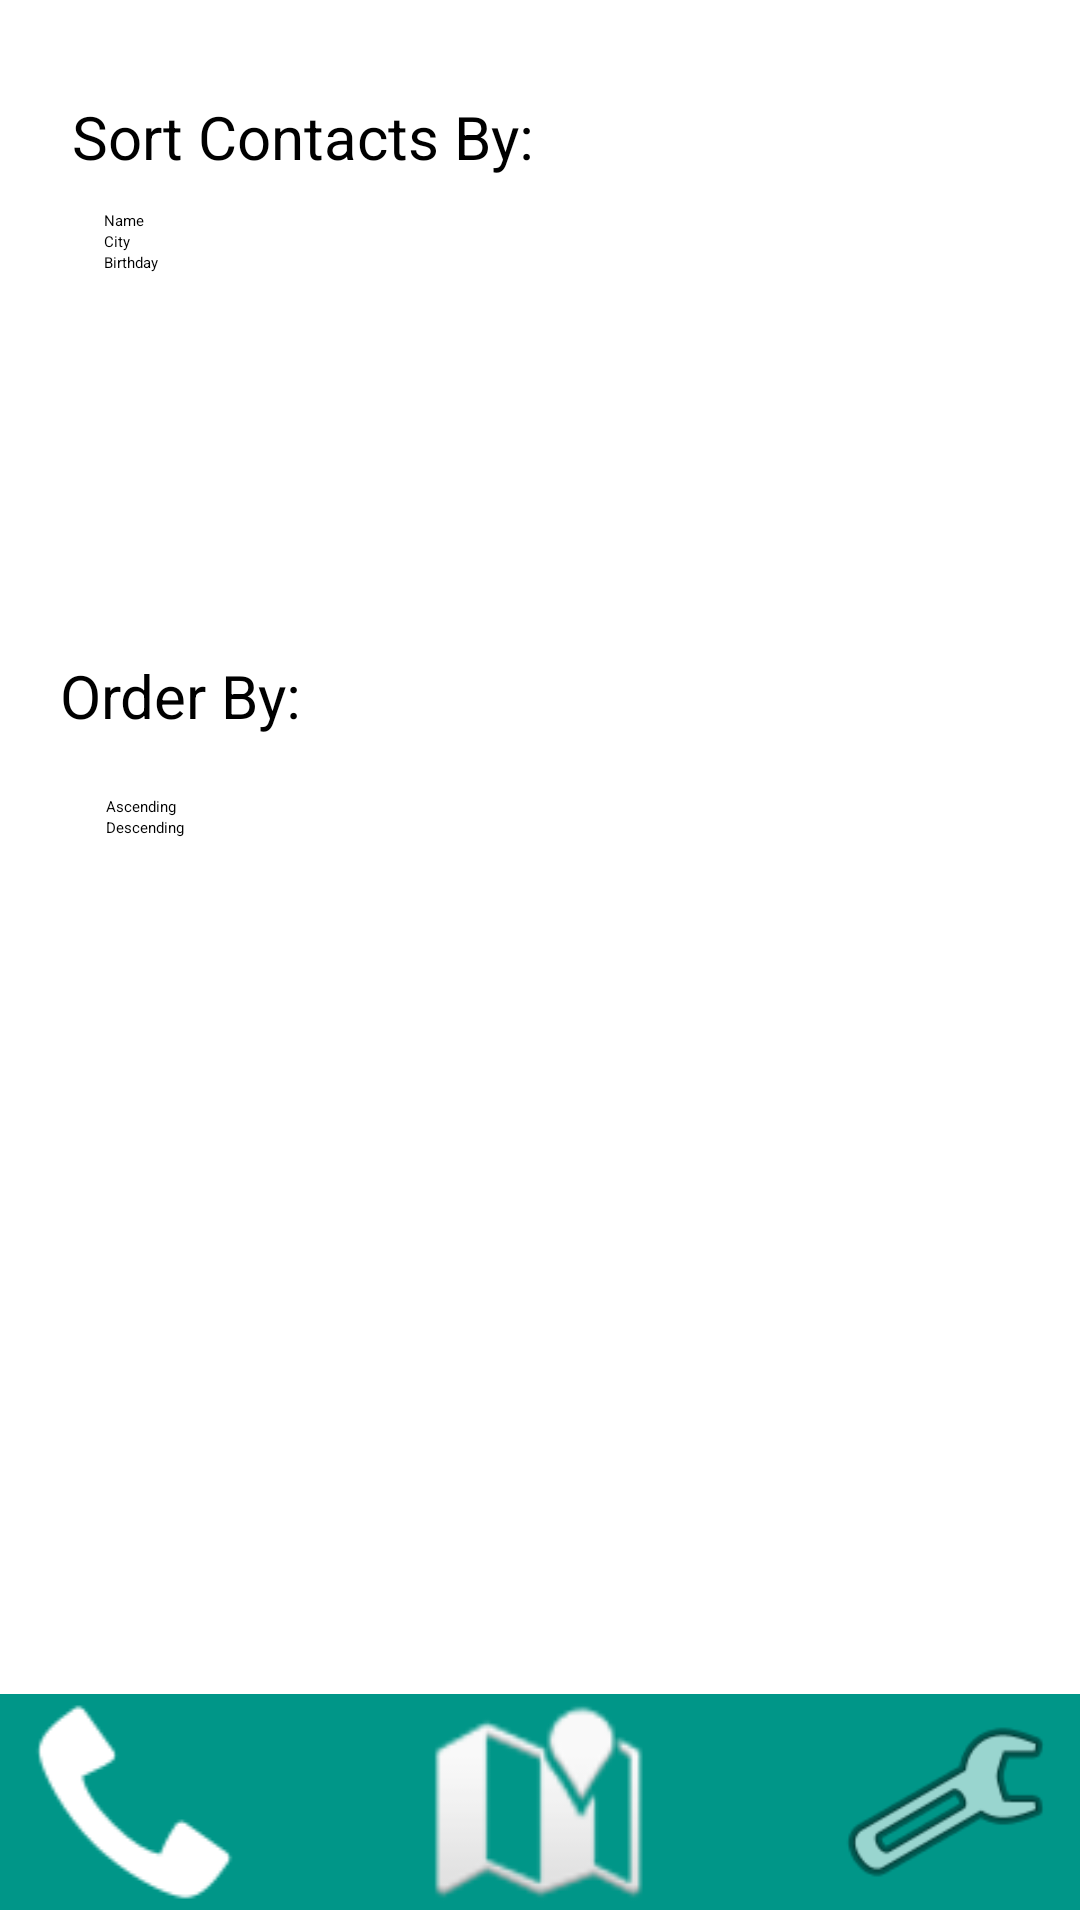

Icons on this 1080x1920 Android screen, each with its box as (x1=x1, y1=y1, x2=x2, y2=y2):
Map Button: (x1=435, y1=1706, x2=643, y2=1897)
